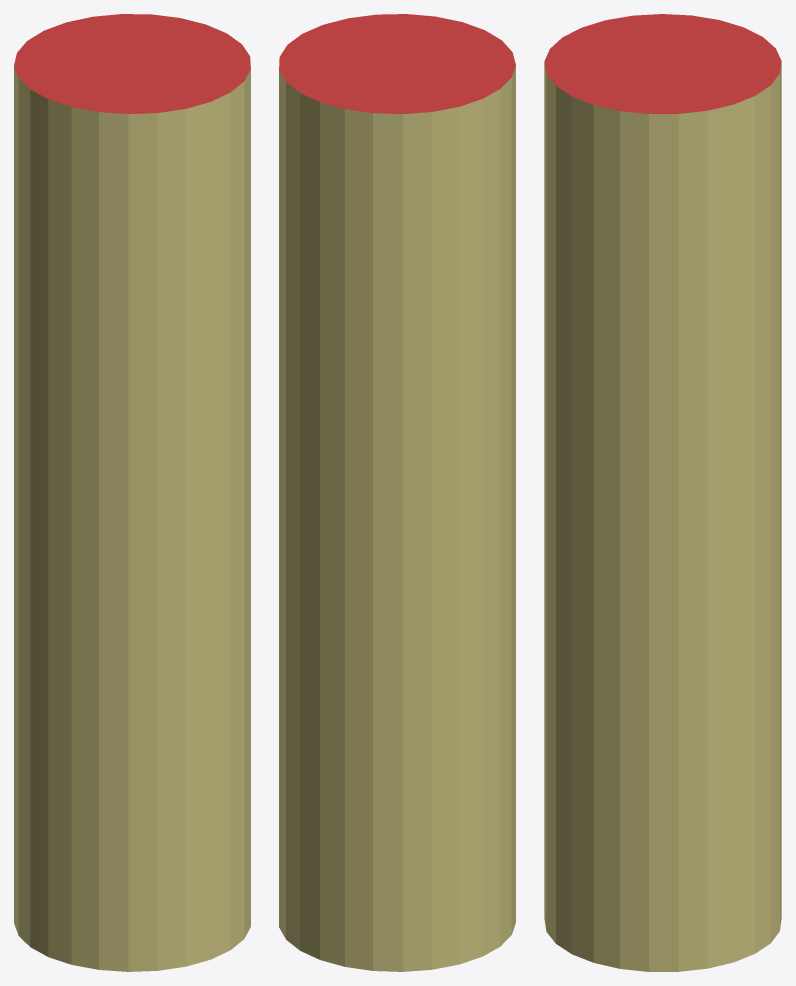
3 views of the same model, side by side, from view 1: azimuth 30°, elevation 25°; view 2: azimuth 150°, elevation 25°; view 3: azimuth 270°, elevation 25° (orthographic).
Bounding box in the file's own units: 3.36 × 3.36 × 13.41.
